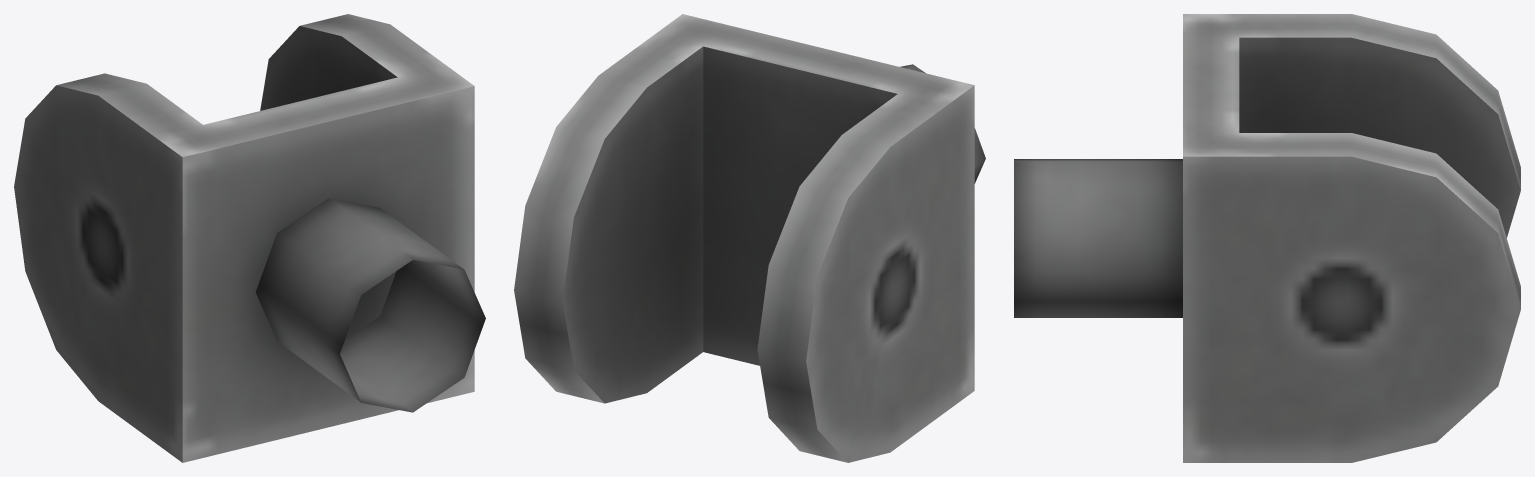
Rendered from eridani_satellite_neck_rotator.obj.
The picture shows the model from 3 angles, left to right: view 1: azimuth 30°, elevation 25°; view 2: azimuth 150°, elevation 25°; view 3: azimuth 270°, elevation 25°; orthographic projection.
Parts seen in each view (by area): view 1: mesh1; view 2: mesh1; view 3: mesh1.
Part boxes in pixels (left/top/right/bottom): mesh1: left=14, top=14, right=485, bottom=462; mesh1: left=514, top=14, right=985, bottom=462; mesh1: left=1014, top=14, right=1520, bottom=462.
Size of the model in its own units: 0.15 by 0.15 by 0.225.
1 material, 1 textured.
